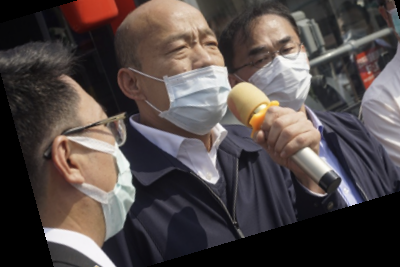mask_weared_incorrect: (112, 1, 236, 137)
